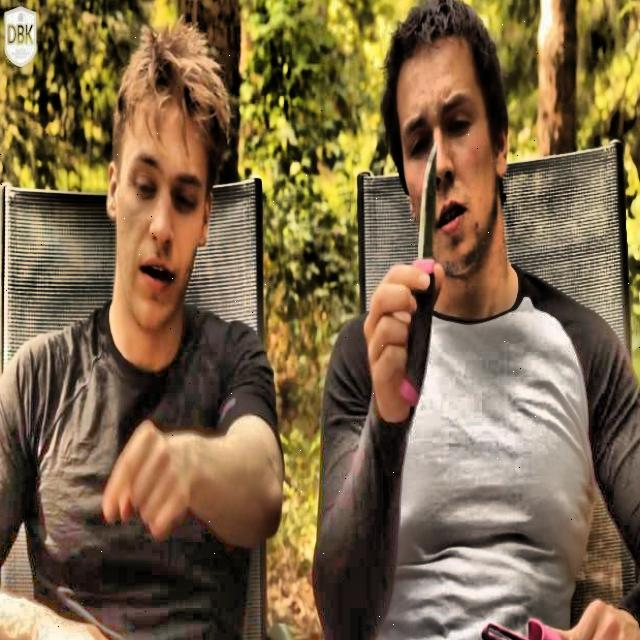knife: (401, 143, 440, 402)
